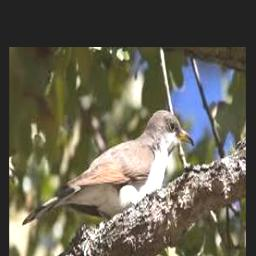Cuckoo: (23, 109, 195, 227)
